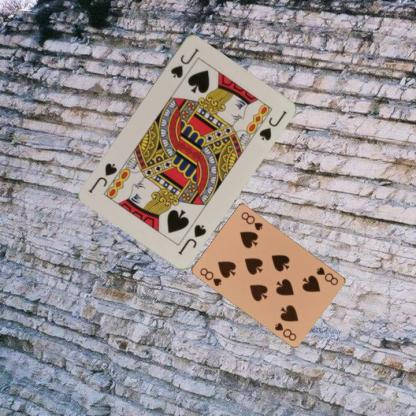8s: (314, 264, 340, 287), (198, 265, 223, 288)
Js: (175, 221, 208, 256), (167, 45, 200, 79)
